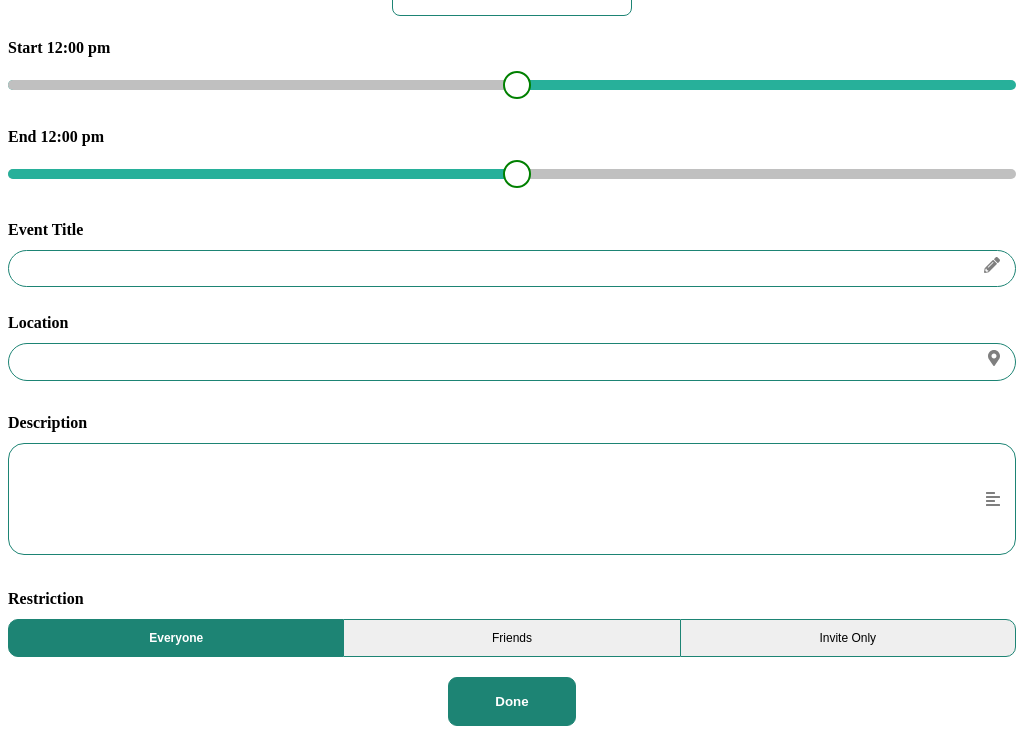
Scenario: CreateEvent › should have validation errors
(page scrolled)
Click the button with test id "mull-button".
click(512, 701)  # box left=448, top=677, right=576, bottom=726
(page scrolled)
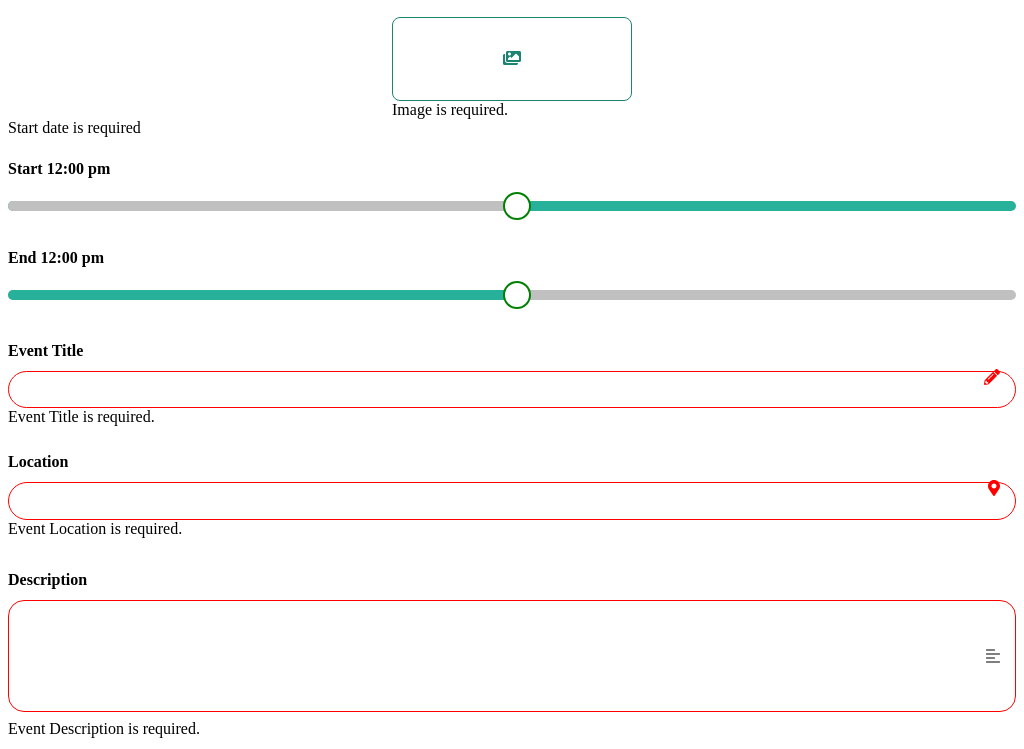
Expected: the text "Image is required." is shown, left=392, top=101, right=508, bottom=118
